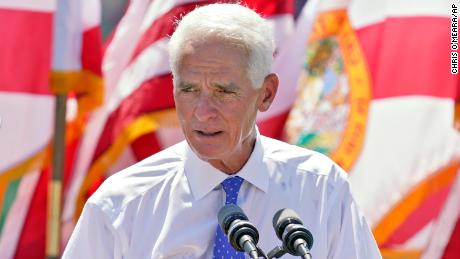without_mask: (174, 29, 251, 152)
